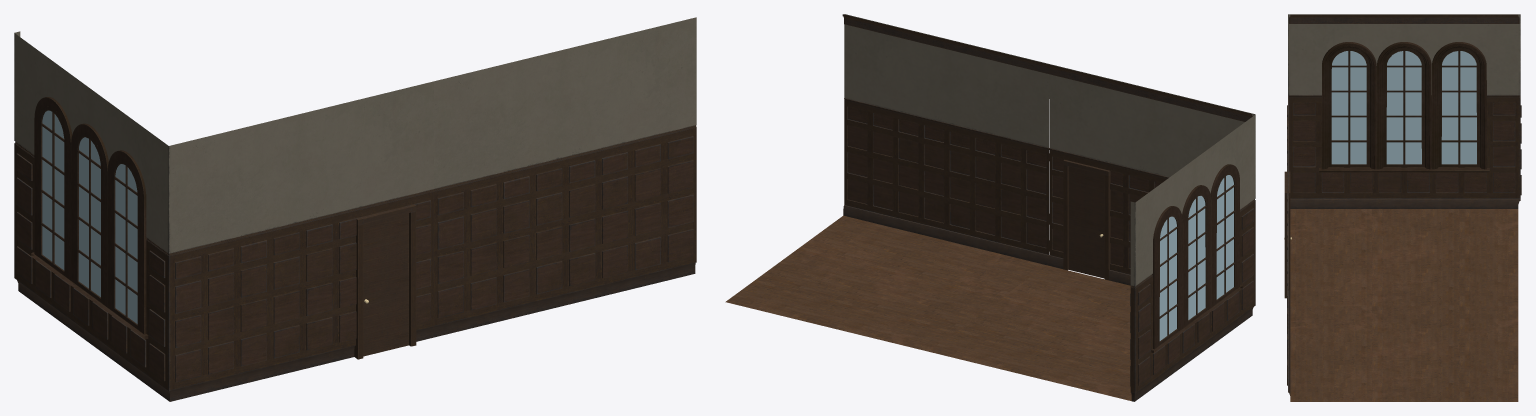
The model's file is architecture-desktop-4c3ce0797382.glb.
3 views of the same model, side by side, from view 1: azimuth 30°, elevation 25°; view 2: azimuth 150°, elevation 25°; view 3: azimuth 270°, elevation 25° (orthographic). The views are drawn at different scales.
Visible parts, largest first — view 1: Door_Frame_1_Interior_0, Glass_1_Interior_0; view 2: Door_Frame_1_Interior_0, Glass_1_Interior_0; view 3: Door_Frame_1_Interior_0, Glass_1_Interior_0.
Boxes of the visible parts, x1,y1,x2,y2 form: Door_Frame_1_Interior_0: (14, 17, 696, 401); Glass_1_Interior_0: (42, 110, 137, 323); Door_Frame_1_Interior_0: (725, 14, 1255, 401); Glass_1_Interior_0: (1159, 175, 1233, 340); Door_Frame_1_Interior_0: (1284, 14, 1521, 401); Glass_1_Interior_0: (1331, 51, 1476, 164).
Bounding box in the file's own units: 7.95 × 3.7 × 4.09.
2 materials, 1 textured.
